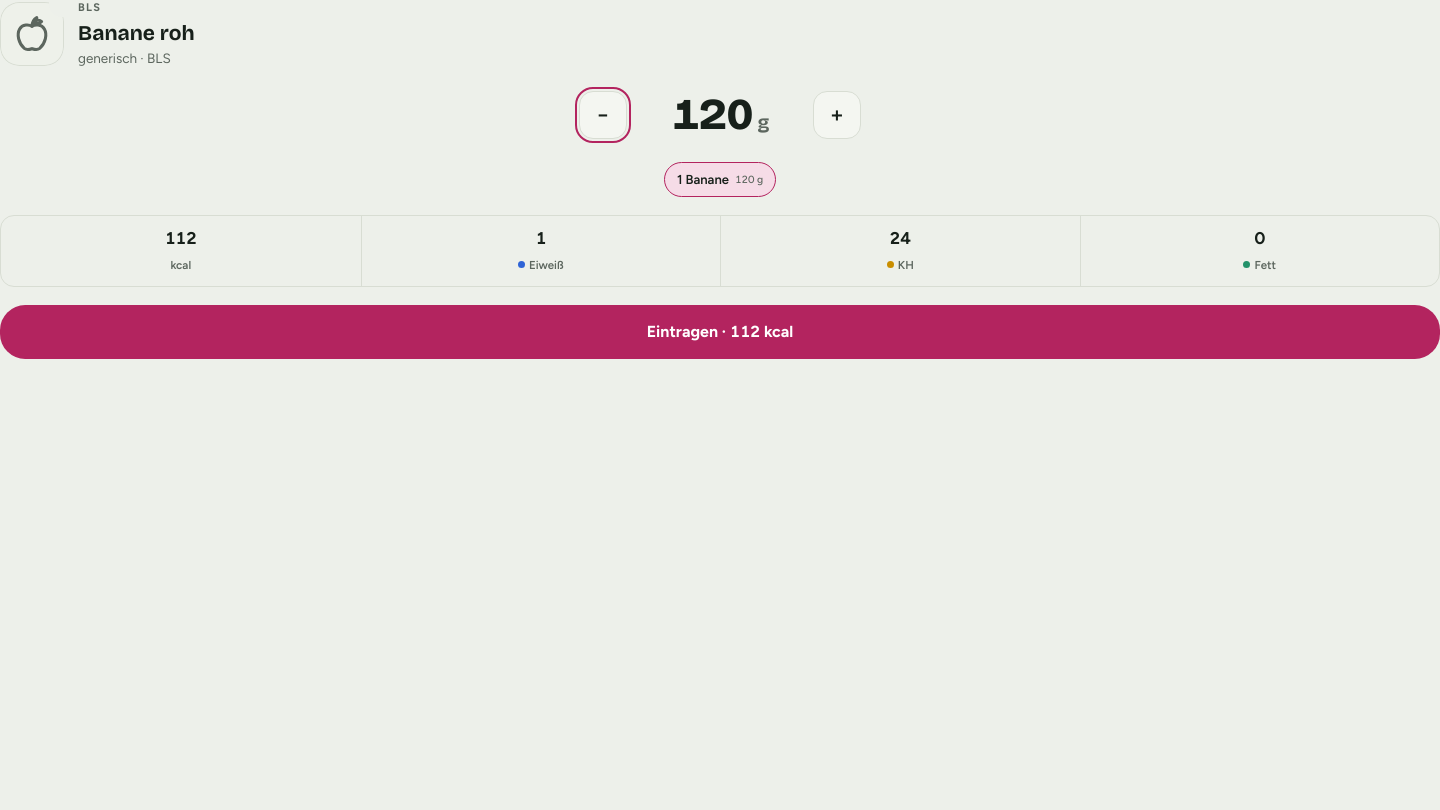
± changes the grams and the preview follows live
Step 1. Click the button named "weniger" → (603, 115), box [579,91,627,139]
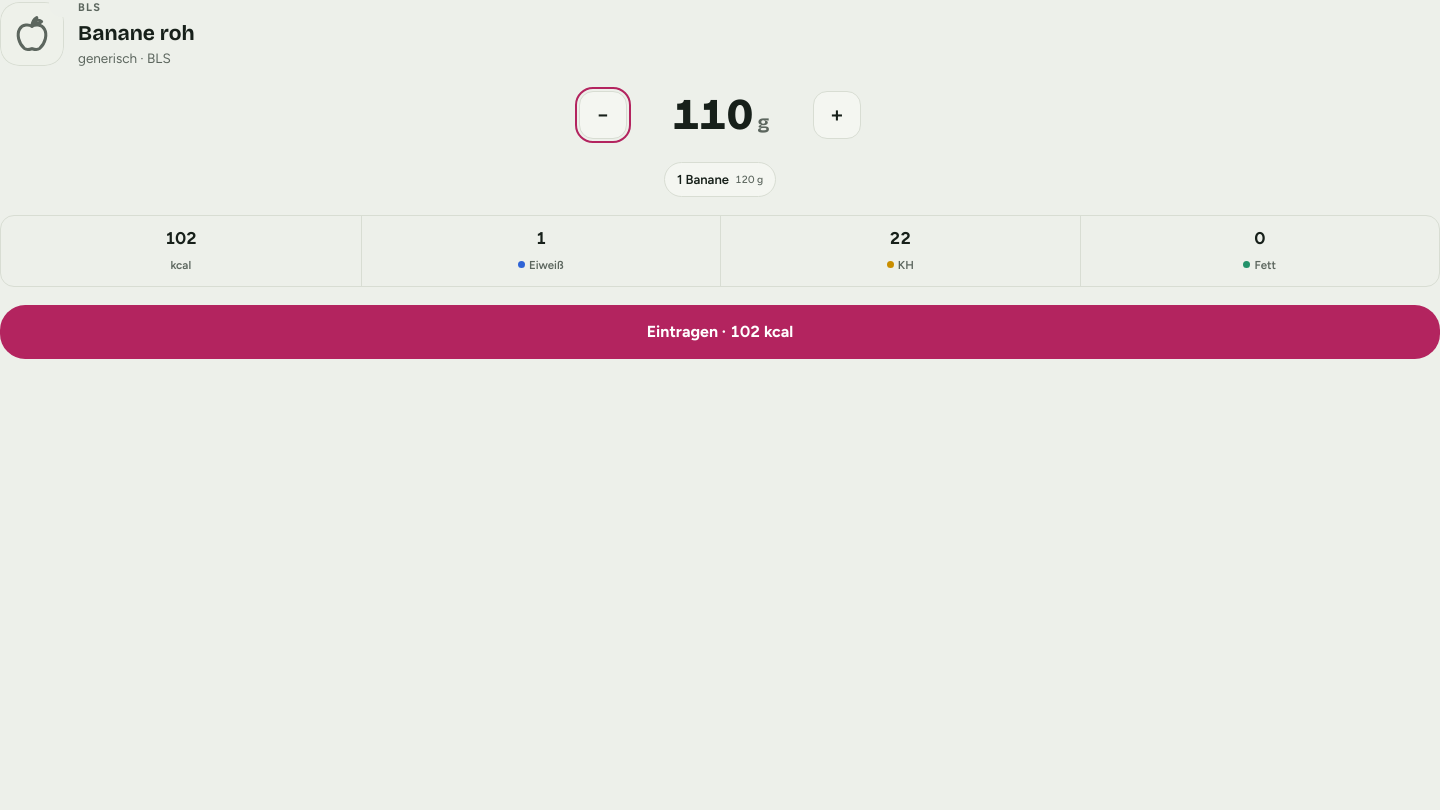
Step 2. Click the button named "weniger" → (603, 115), box [579,91,627,139]
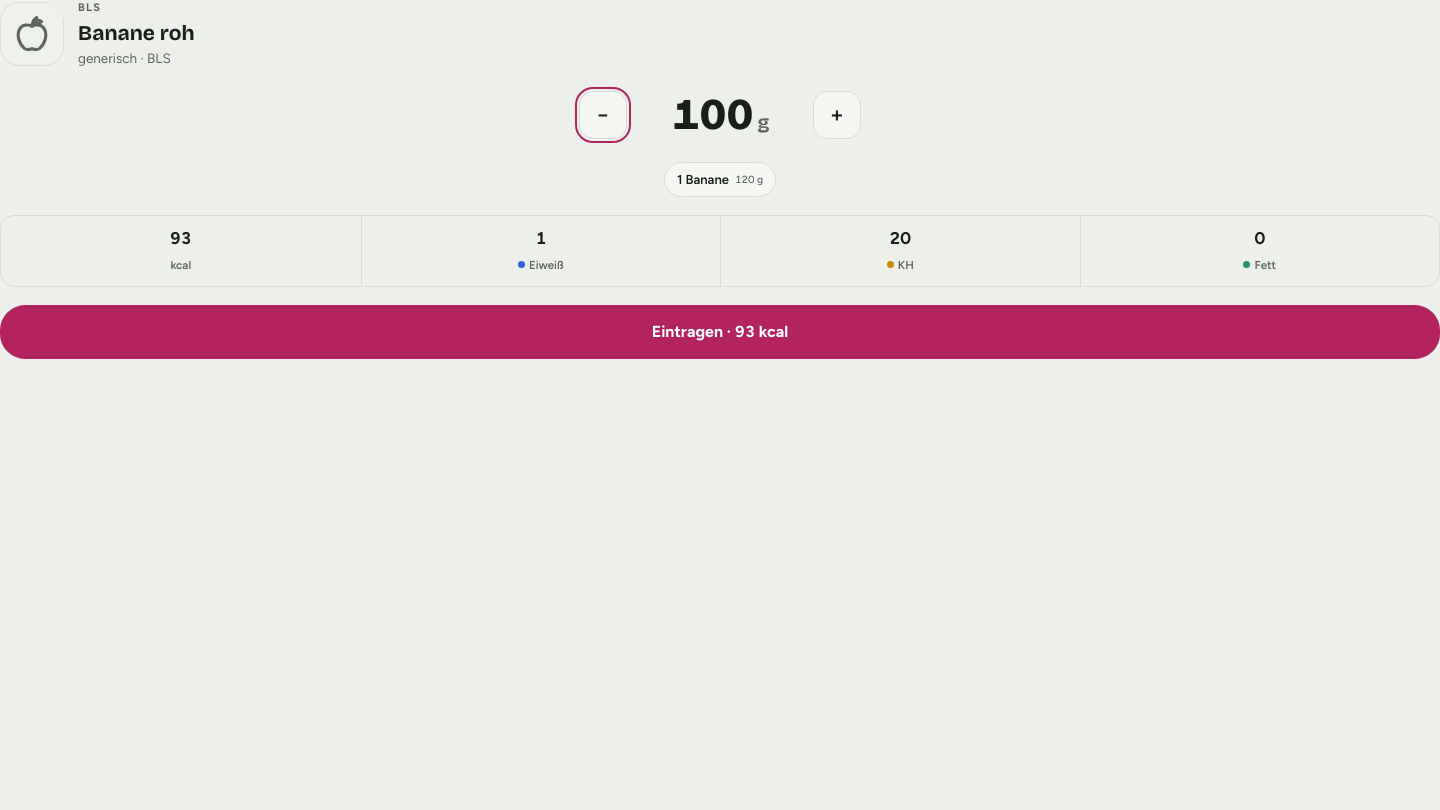
Step 3. Click the button named "weniger" → (603, 115), box [579,91,627,139]
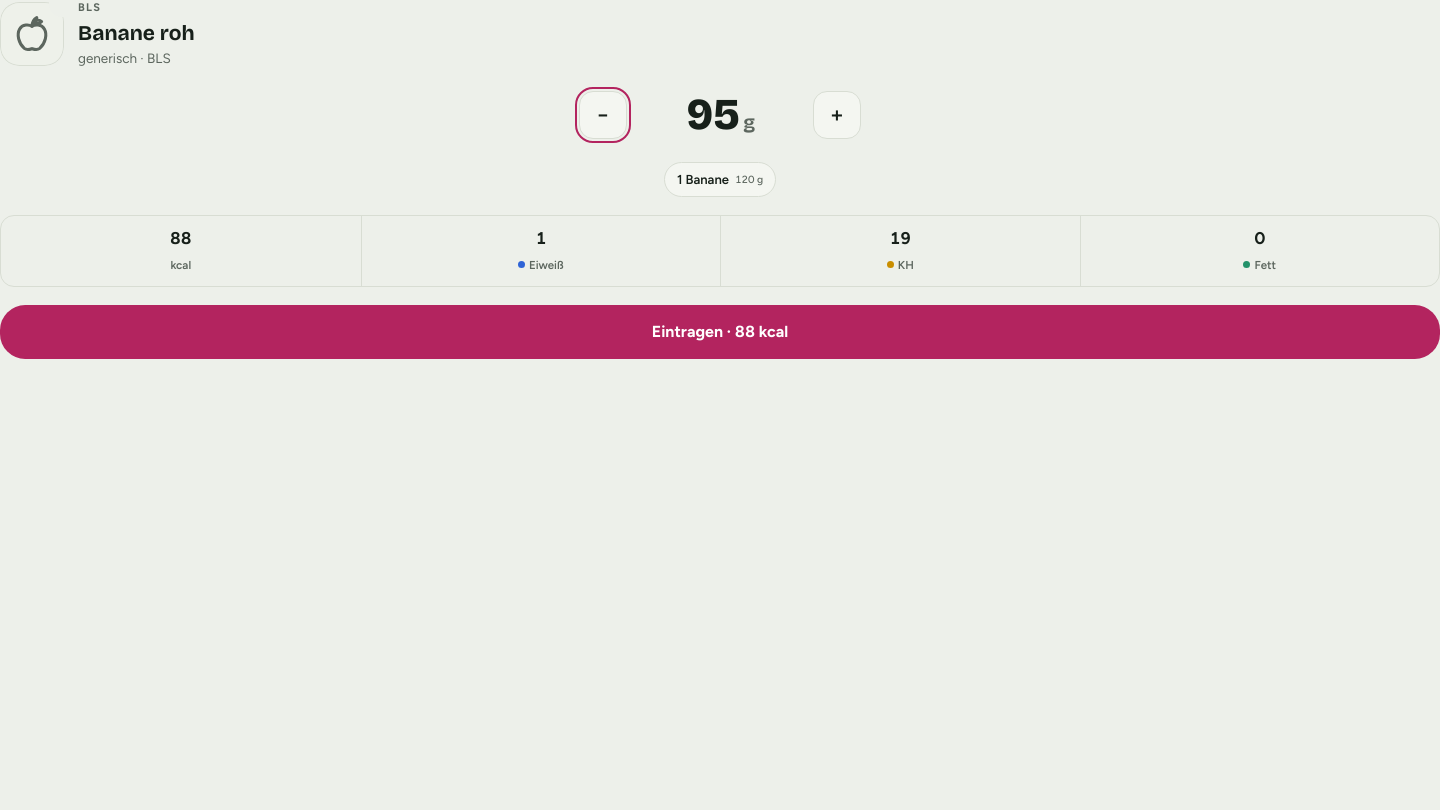
Step 4. Click the button named "weniger" → (603, 115), box [579,91,627,139]
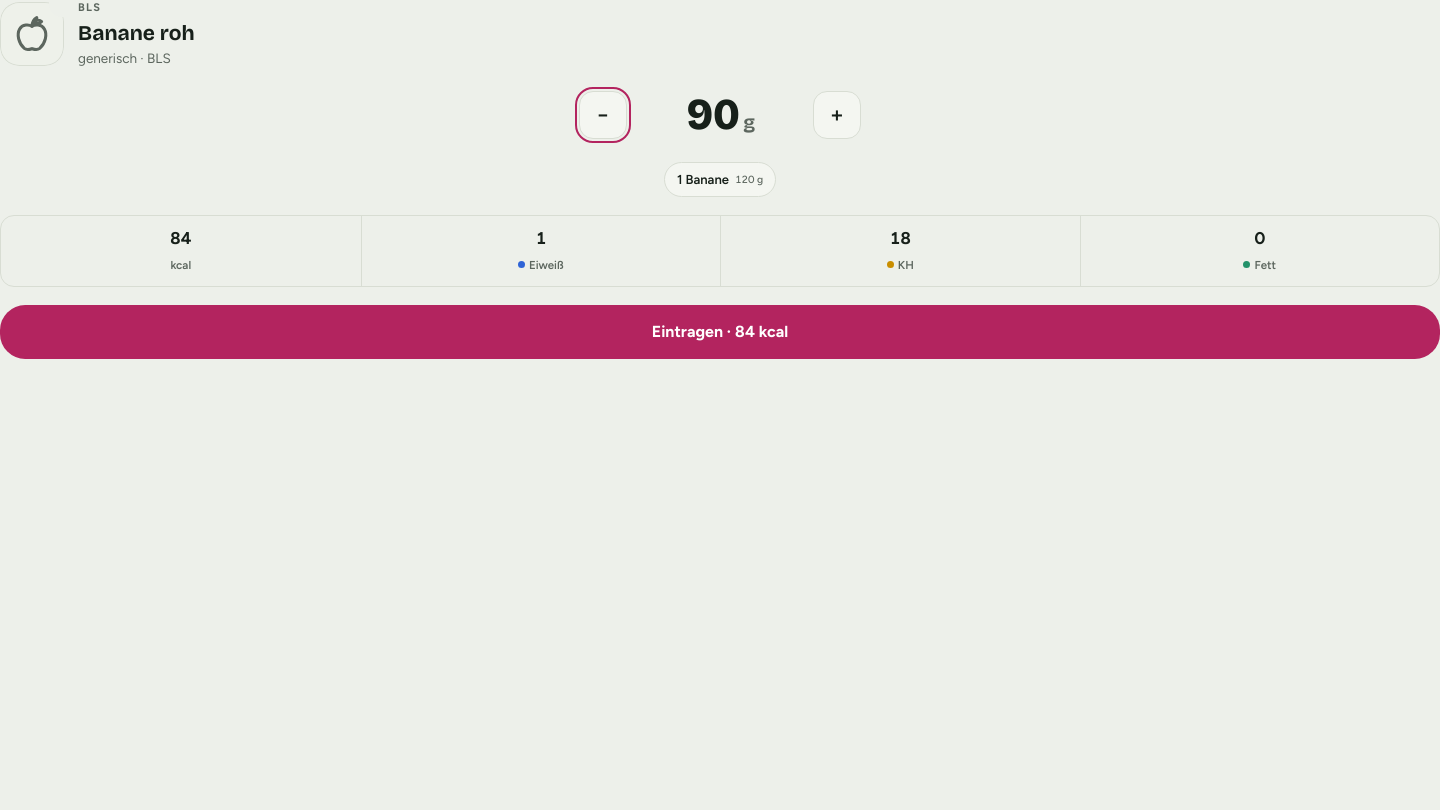
Now the number field named "Menge" holds "90", box [685,82,741,148]
Step 5. Click the button named "mehr" → (837, 115), box [813,91,861,139]
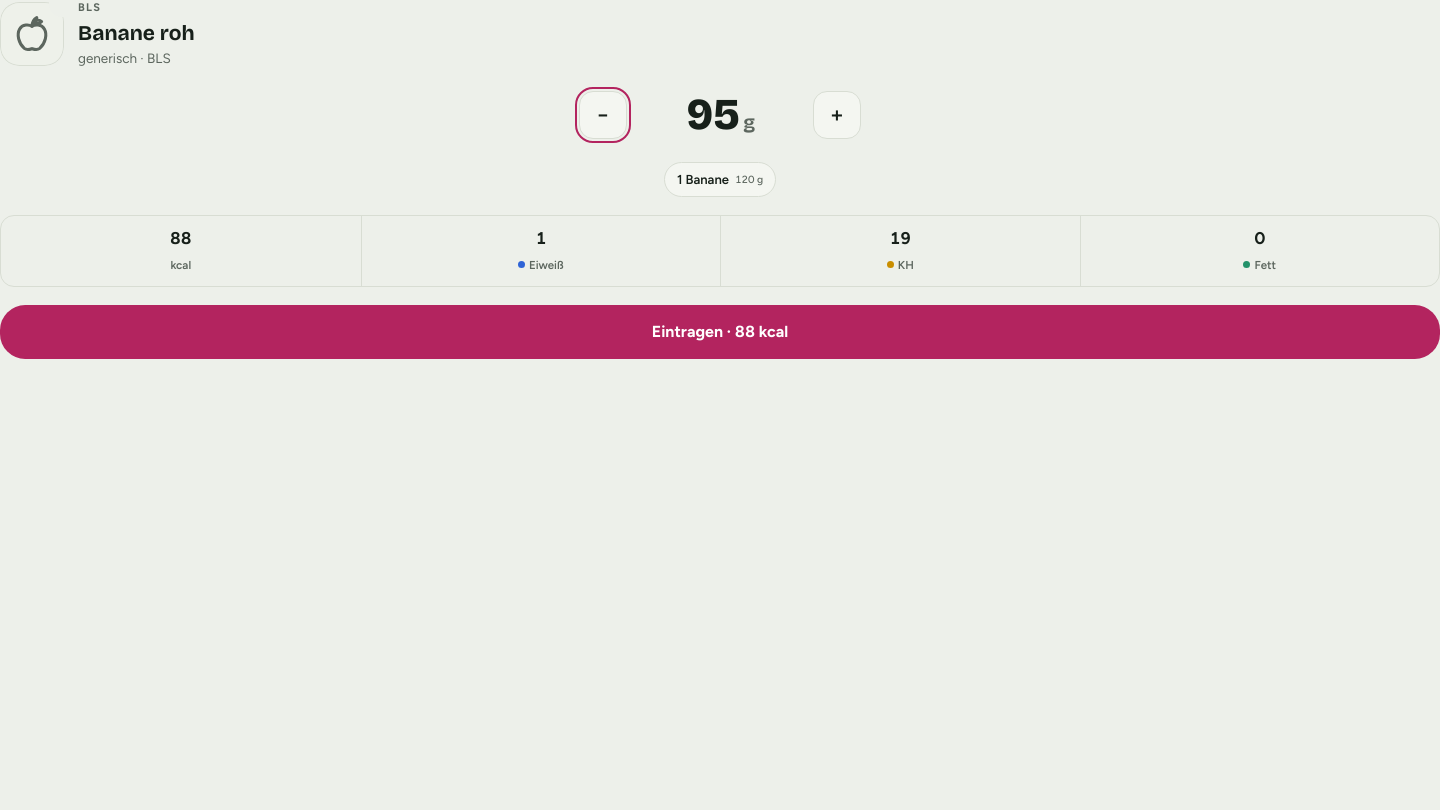
Now the number field named "Menge" holds "95", box [685,82,741,148]
Step 6. Click the button "1 Banane 120 g" → (720, 180), box [664,162,776,197]
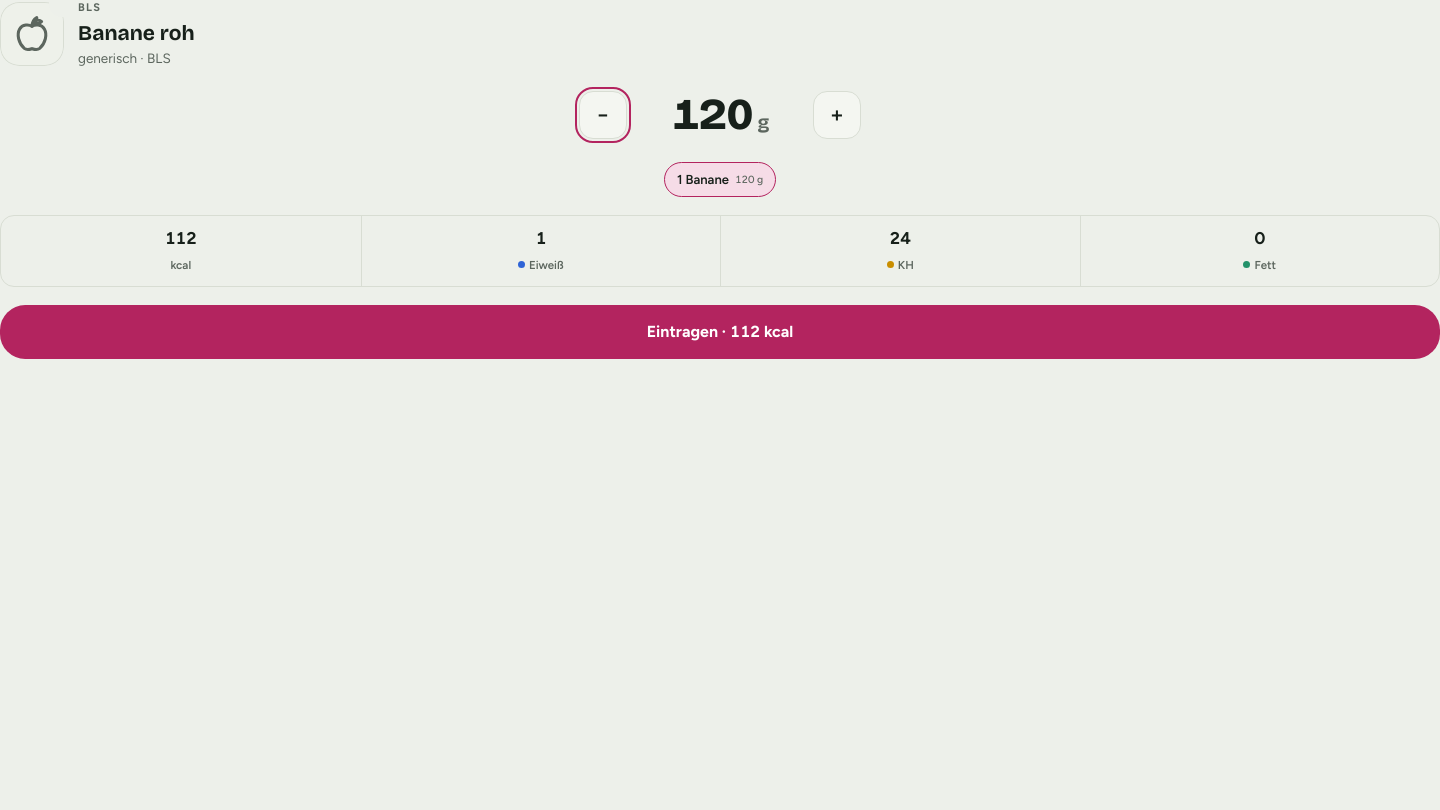
Now the number field named "Menge" holds "120", box [671,82,755,148]
